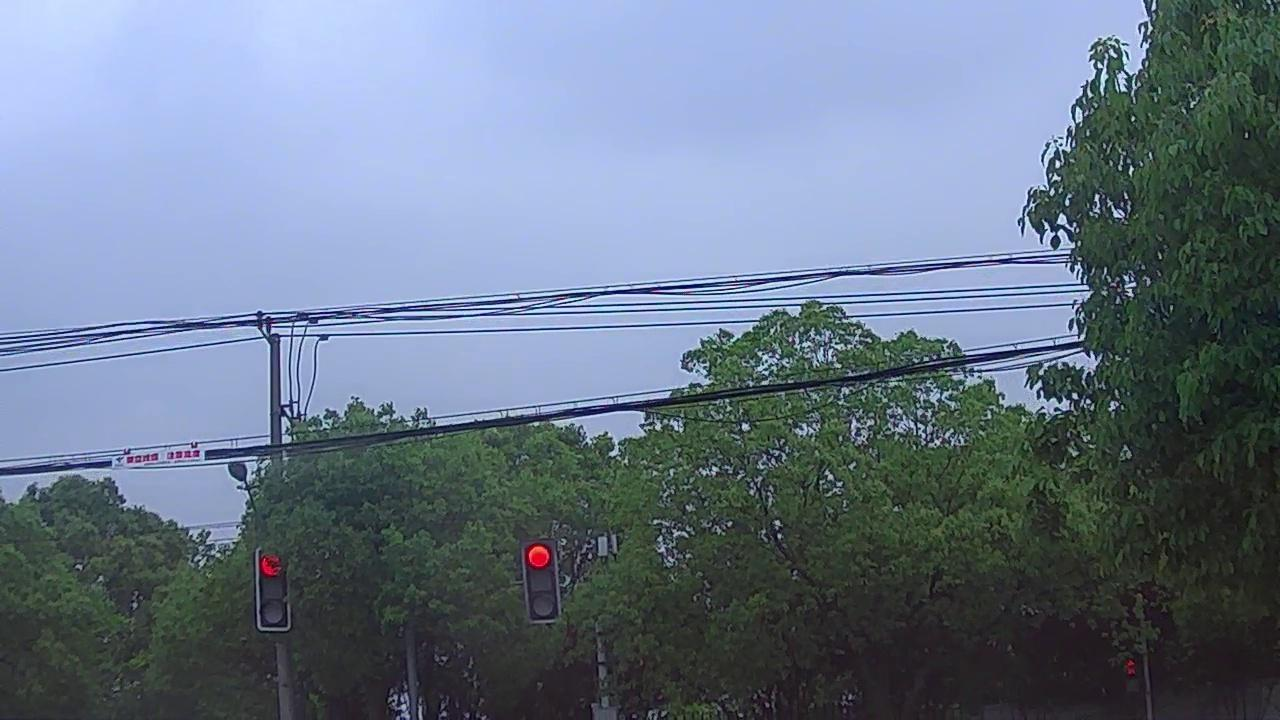traffic_light: (522, 543, 559, 624), (257, 546, 290, 626)
